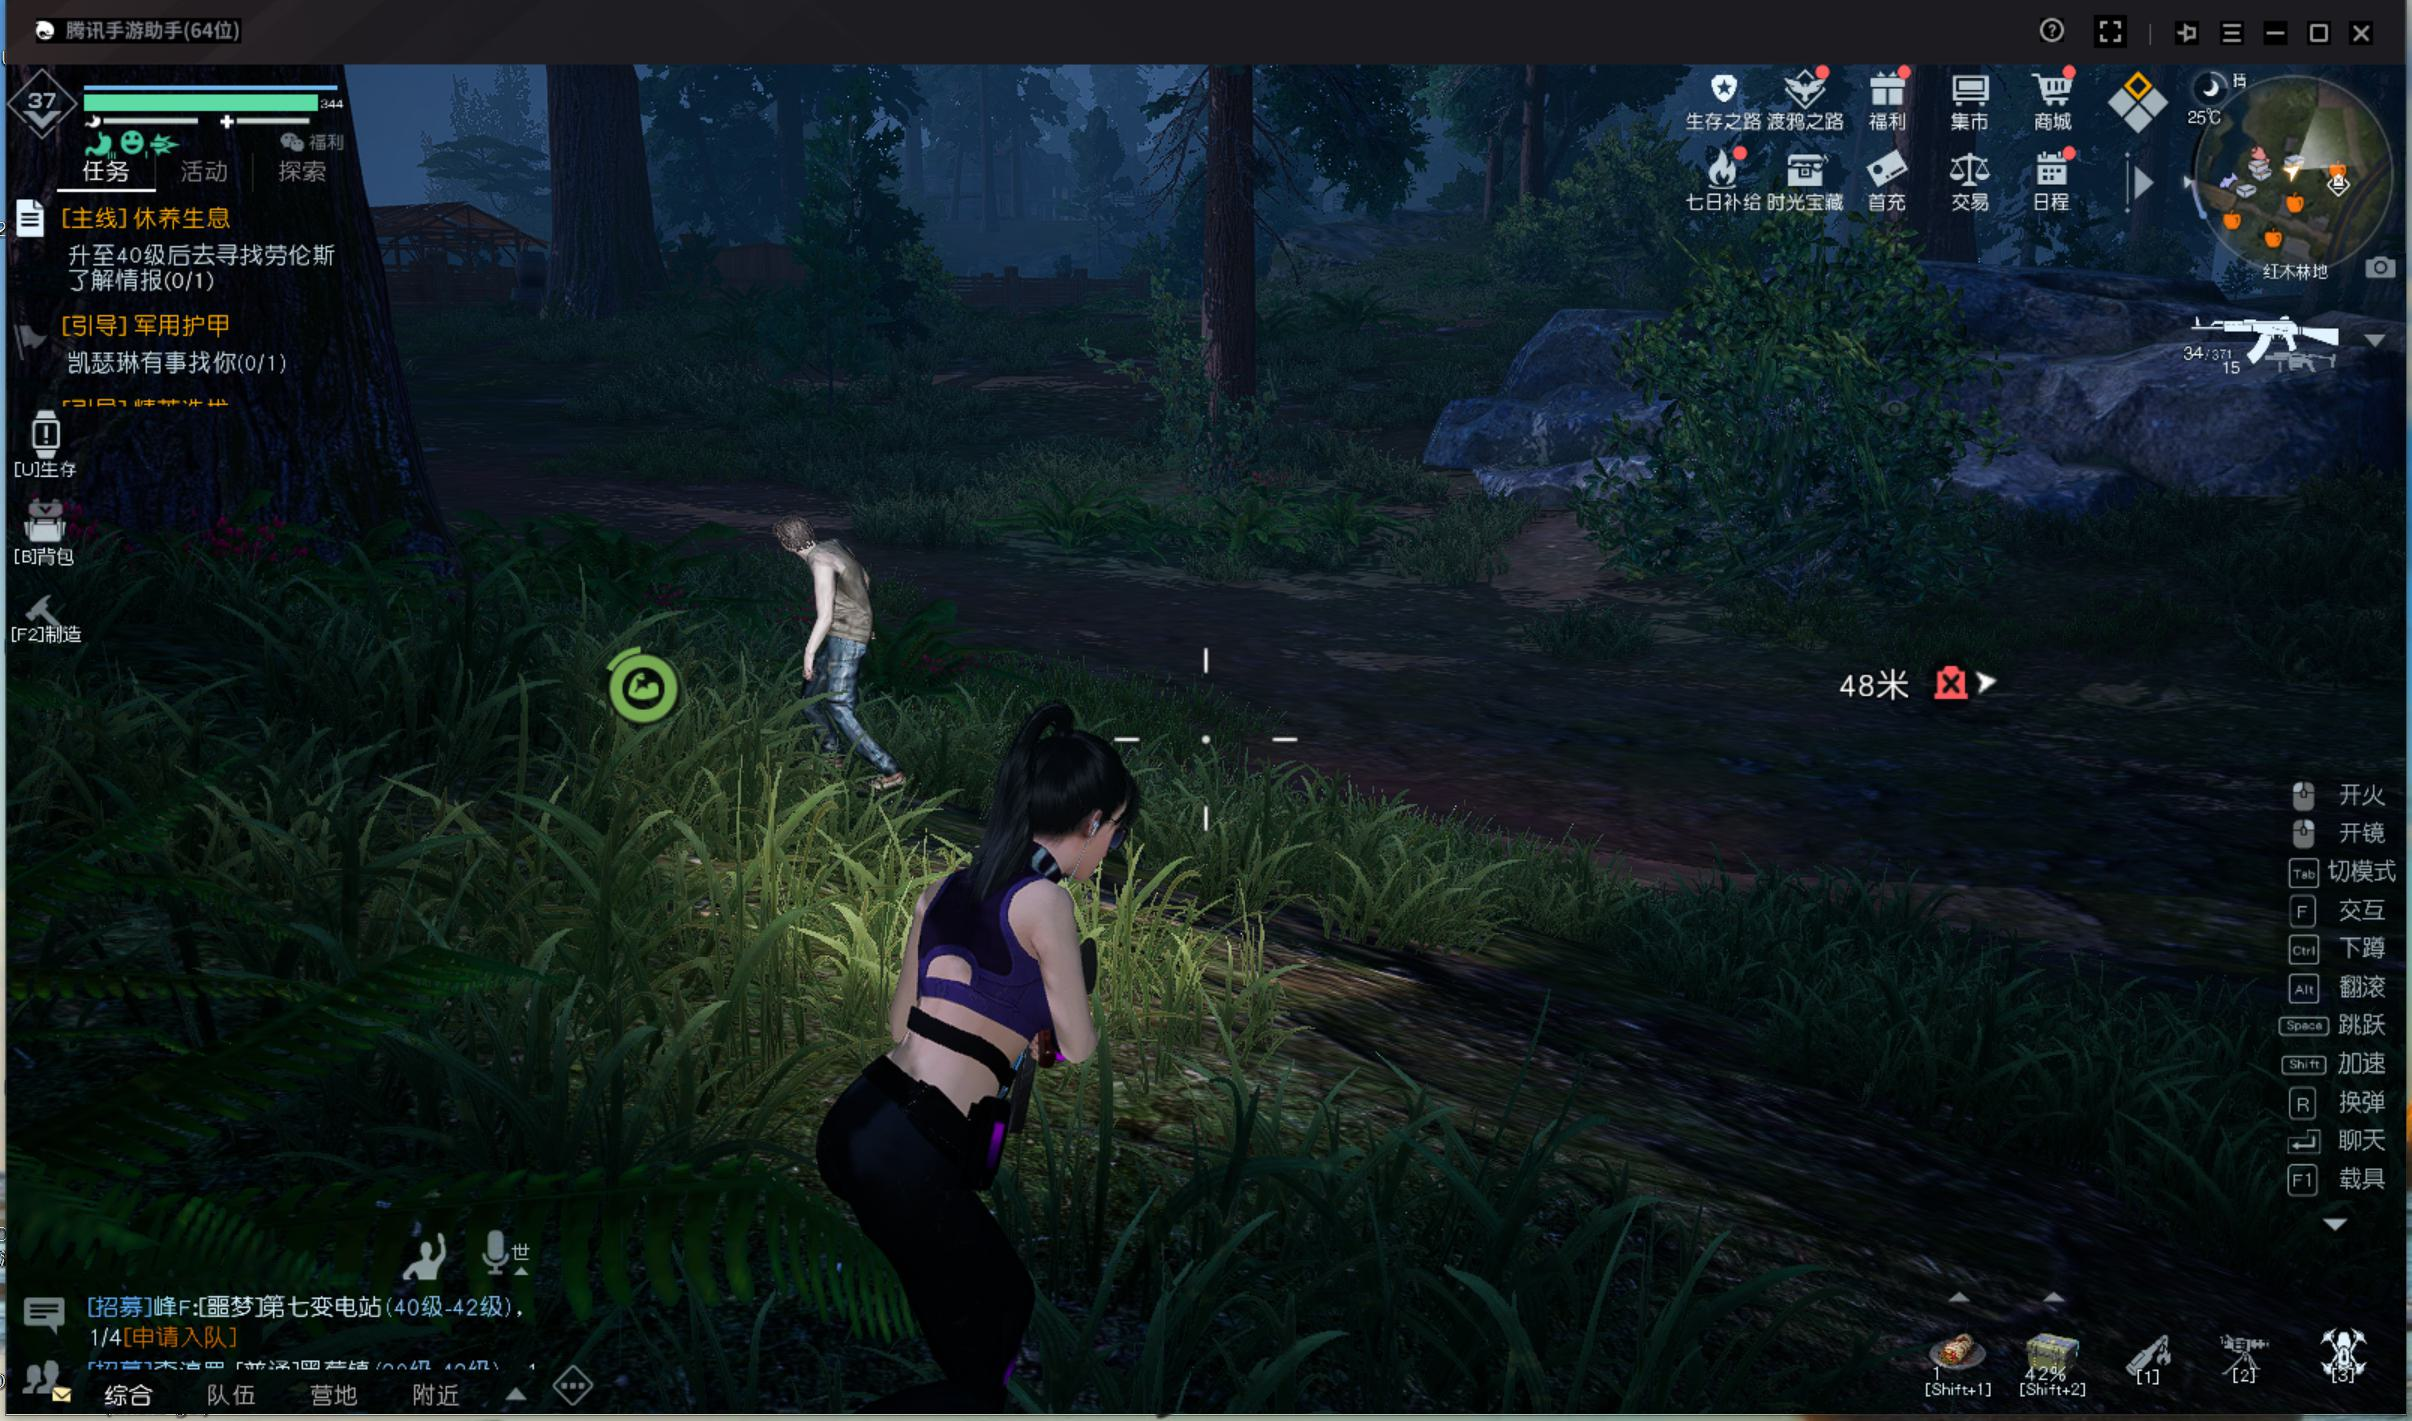tree: (519, 69, 665, 333), (1189, 98, 1262, 440)
